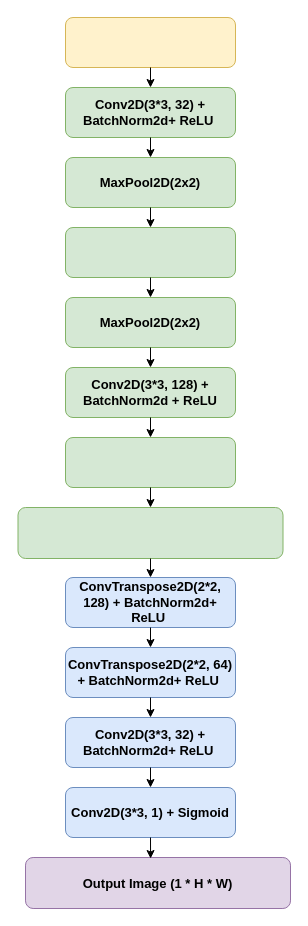
This 308x926 diagram has some shape labels left out. Here are the shapes that lost their labels. From the top down, the box of each, then its label:
(64, 16, 236, 68): Input Image (1 * H * W)
(64, 226, 236, 278): Conv2D(3*3, 64) + BatchNorm2d + ReLU
(64, 436, 236, 488): Conv2D(3*3, 256) + BatchNorm2d + ReLU
(17, 506, 283, 558): Encoded Feature Map + Flattening to Vectors
